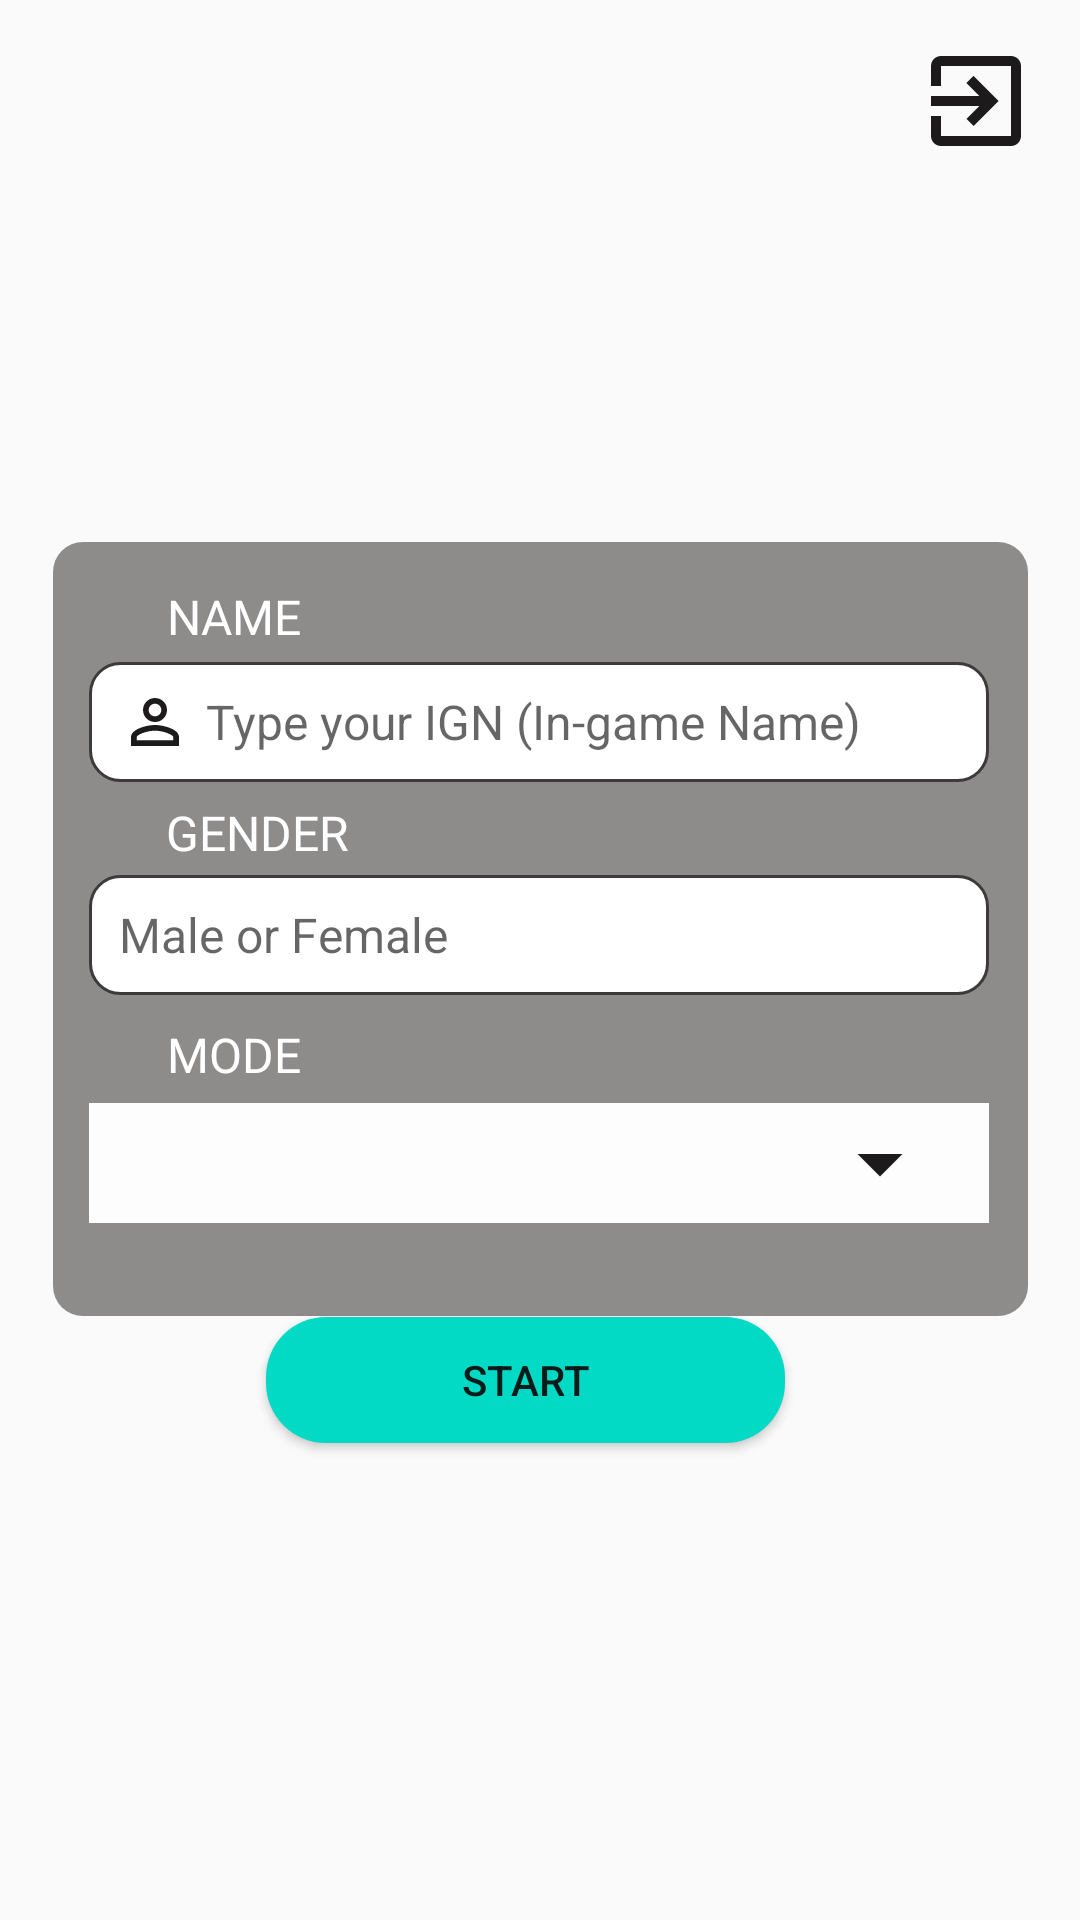

Named icons in this screenshot (1080w x 1920h) and their bounding boxes, (x1, y1, x2, y2):
arrow drop down: (857, 1154, 903, 1177)
exit to app: (931, 56, 1021, 146)
